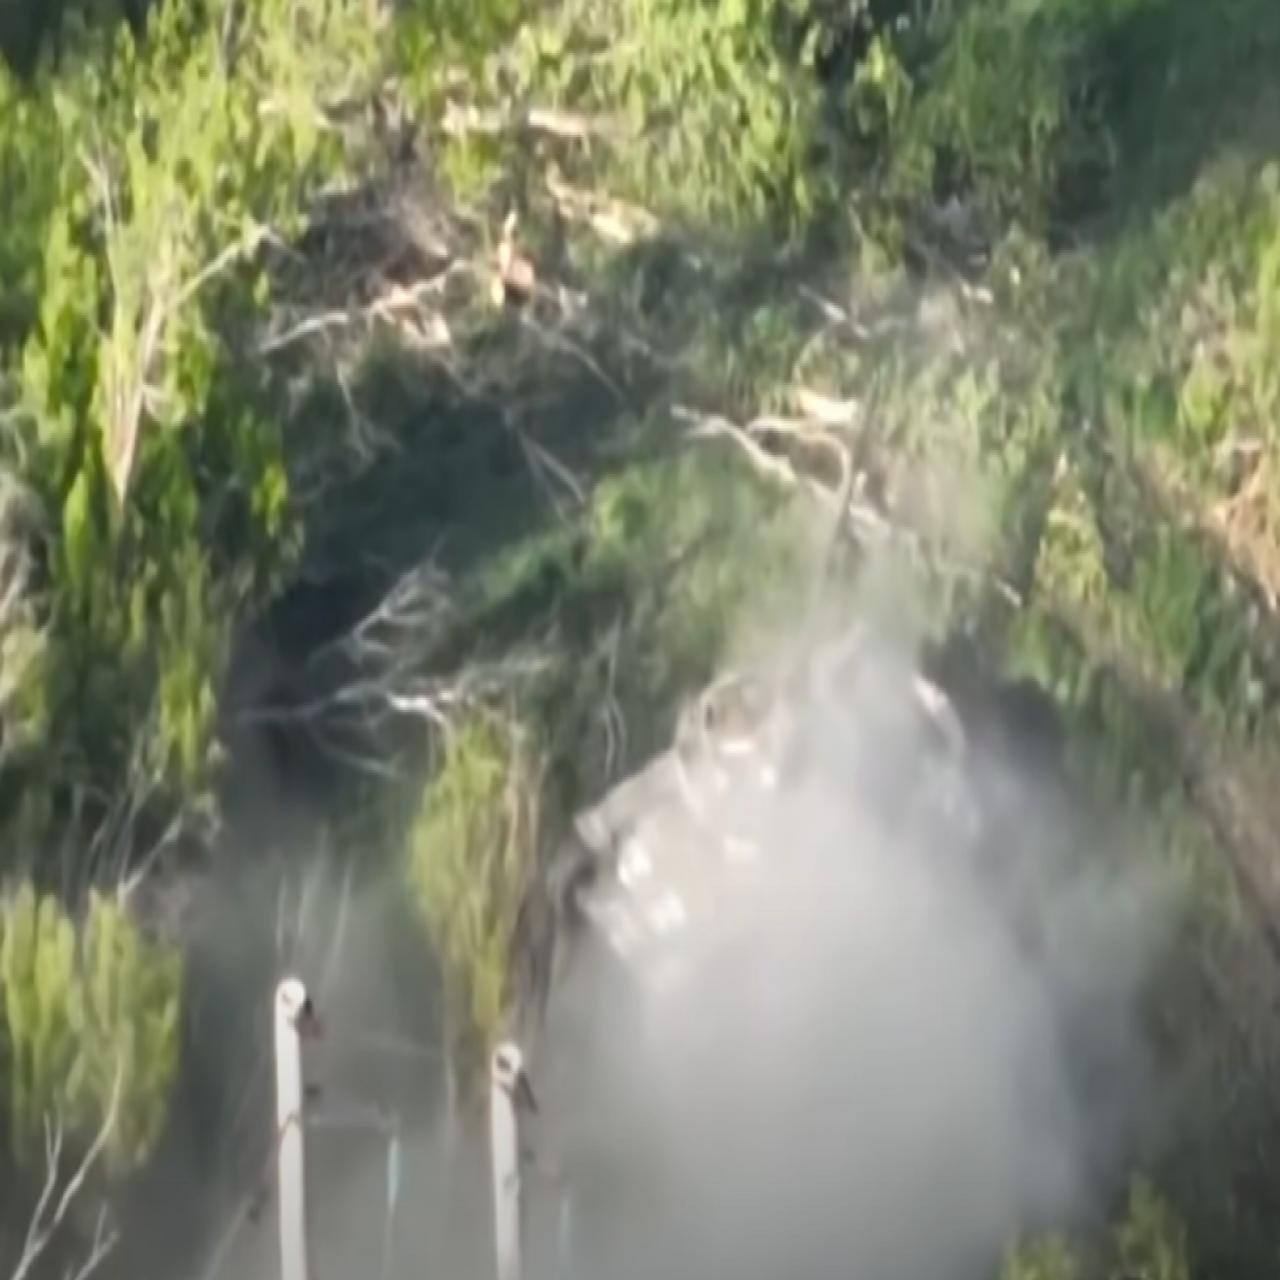MIL_Veh: (546, 368, 983, 1001)
